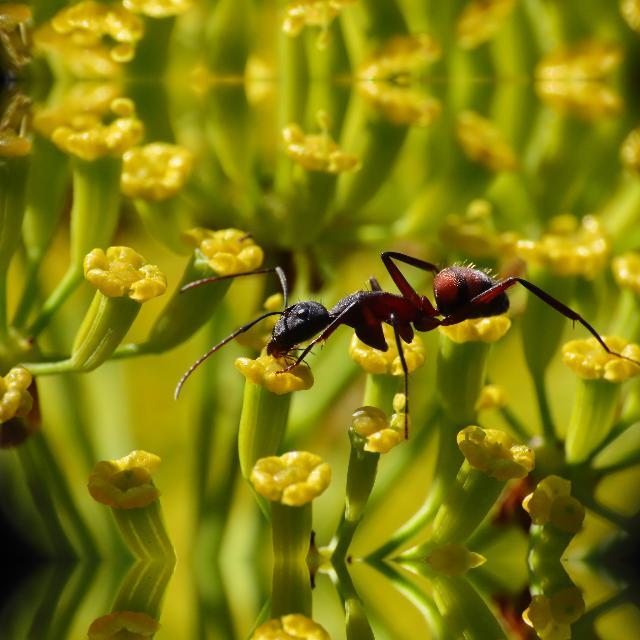Camponotus: (236, 242, 534, 382)
